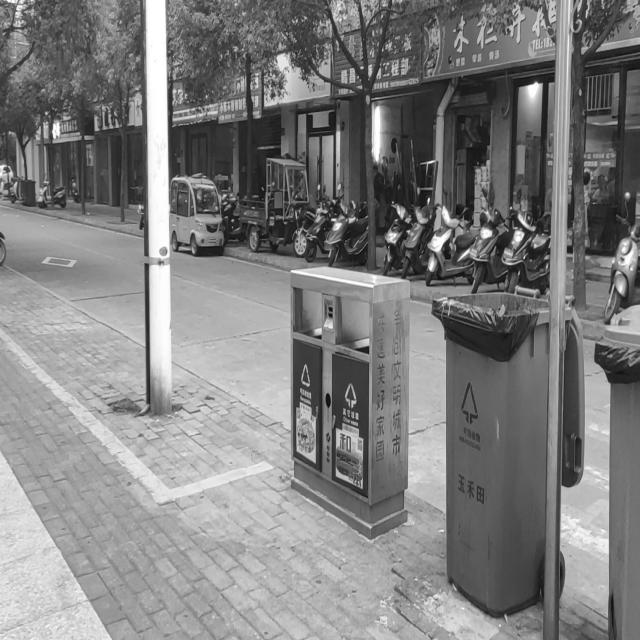ash bin: (429, 288, 584, 610), (283, 264, 411, 549), (592, 302, 640, 636), (20, 178, 35, 206)
car: (170, 172, 224, 255), (0, 163, 13, 184)
motorbike: (423, 184, 479, 285), (500, 187, 550, 293), (603, 187, 640, 327), (469, 189, 511, 289), (328, 195, 380, 267), (380, 183, 412, 275), (400, 196, 430, 278), (304, 185, 333, 261), (38, 177, 66, 208)
pole: (542, 0, 574, 630), (136, 0, 174, 409)
tricycle: (239, 156, 310, 255)
